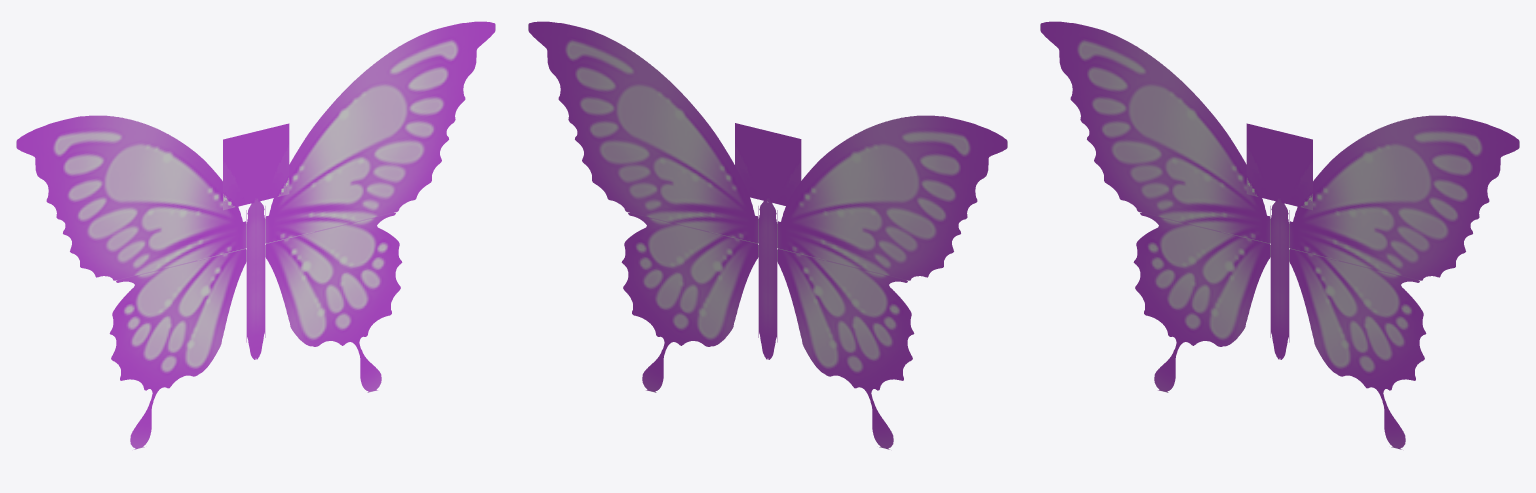
File: butterfly.obj
3 views of the same model, side by side, from view 1: azimuth 30°, elevation 25°; view 2: azimuth 150°, elevation 25°; view 3: azimuth 330°, elevation 25° (orthographic).
Visible parts, largest first — view 1: 平面, 平面.001, 平面.004, 平面.002; view 2: 平面, 平面.001, 平面.004, 平面.002; view 3: 平面, 平面.001, 平面.004, 平面.002.
Part boxes in pixels (x1=…): 平面: x1=16, y1=21, x2=495, y2=280; 平面.001: x1=109, y1=213, x2=402, y2=449; 平面.004: x1=223, y1=123, x2=289, y2=210; 平面.002: x1=246, y1=201, x2=265, y2=359; 平面: x1=528, y1=21, x2=1007, y2=280; 平面.001: x1=621, y1=213, x2=914, y2=449; 平面.004: x1=735, y1=123, x2=801, y2=205; 平面.002: x1=758, y1=200, x2=777, y2=359; 平面: x1=1040, y1=21, x2=1519, y2=280; 平面.001: x1=1133, y1=213, x2=1426, y2=449; 平面.004: x1=1246, y1=123, x2=1312, y2=210; 平面.002: x1=1270, y1=201, x2=1289, y2=359.
Size of the model in its own units: 5.83 by 4 by 0.0056.
4 materials, 4 textured.
